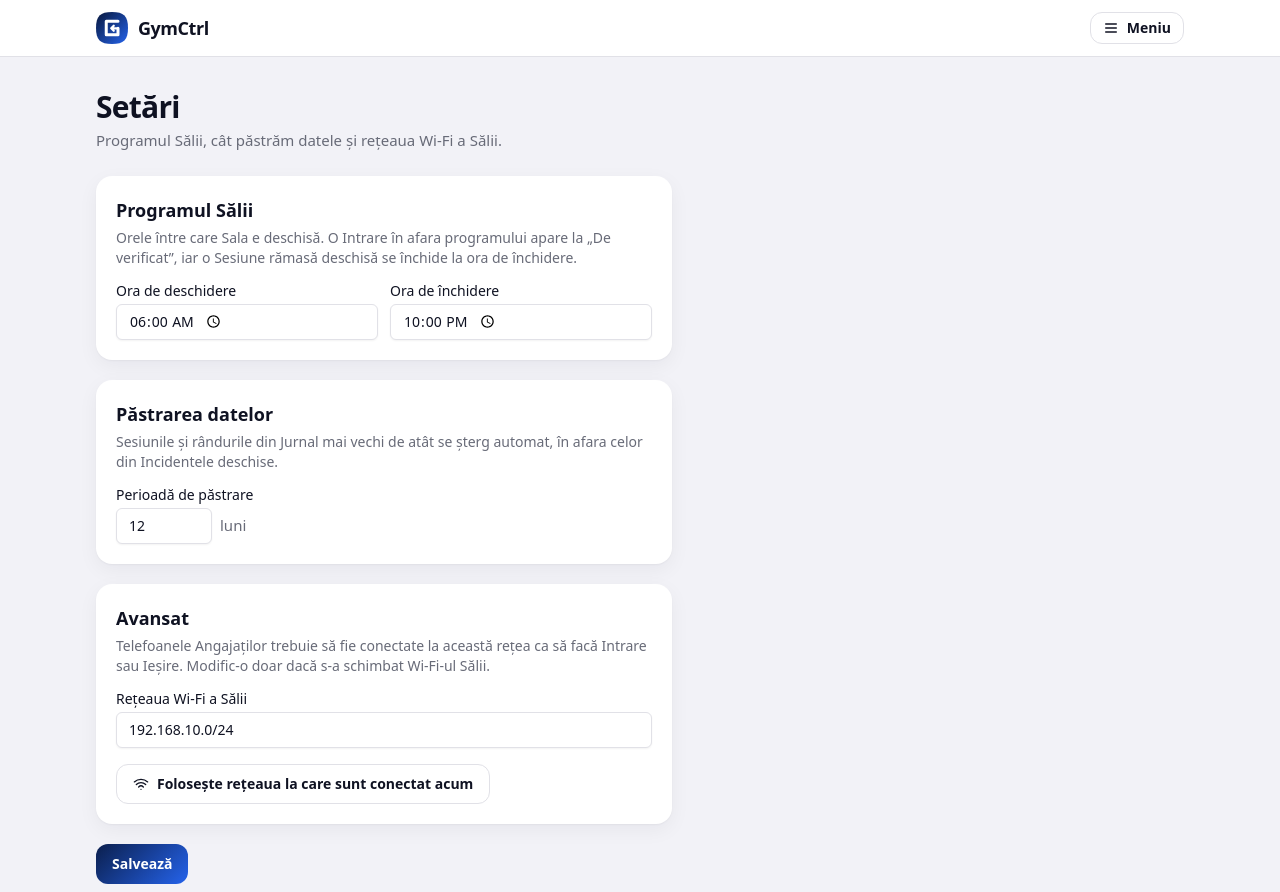
Test: ecranul Setări › sugestia de rețea › completează câmpul, dar nu salvează nimic
The image size is (1280, 892).
Click the button "Folosește rețeaua la care sunt conectat acum" at [303, 784], box top-left (116, 764), bottom-right (490, 804)
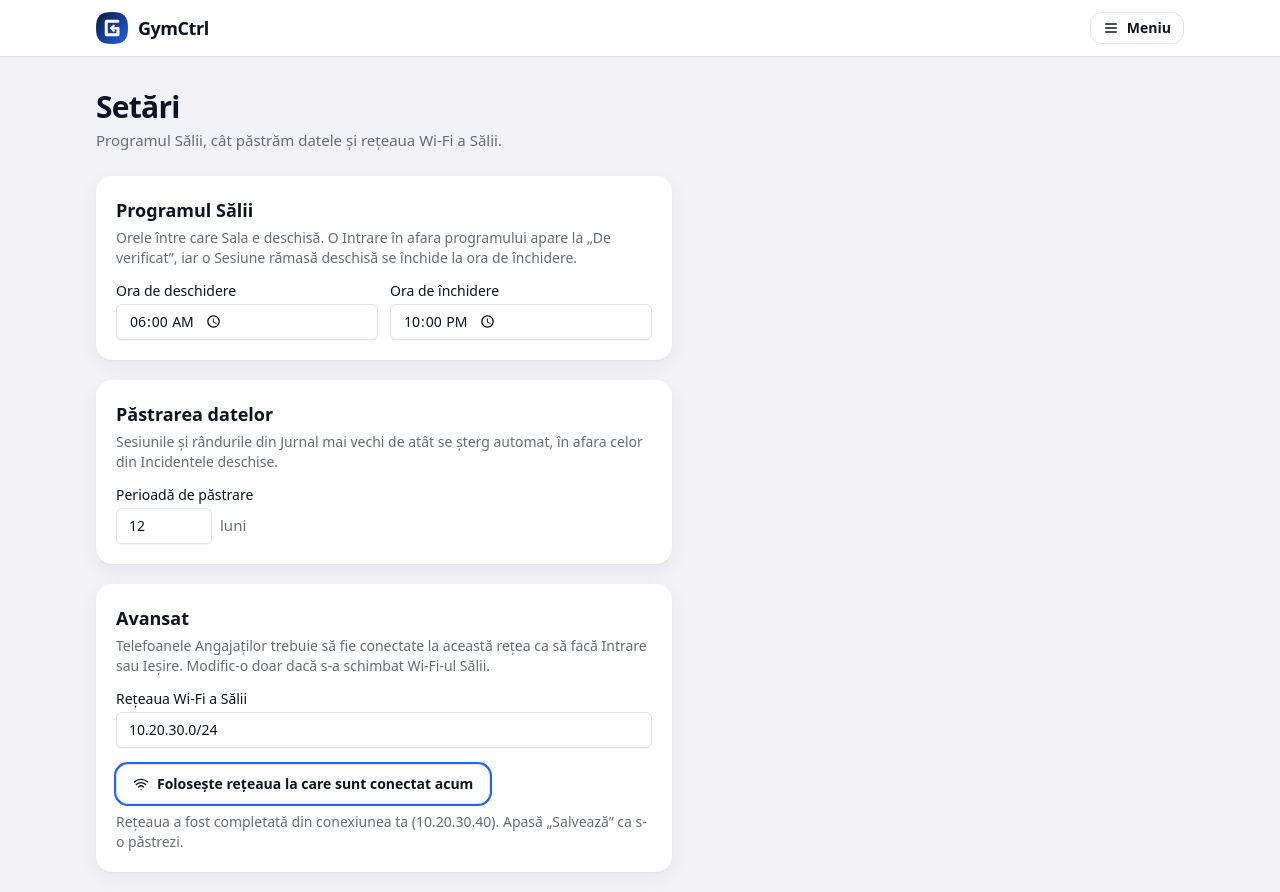
Check: the field labelled "Rețeaua Wi-Fi a Sălii" holds "10.20.30.0/24", box top-left (116, 712), bottom-right (652, 748)
Check: the text "10.20.30.40" is shown, box top-left (116, 812), bottom-right (647, 850)
